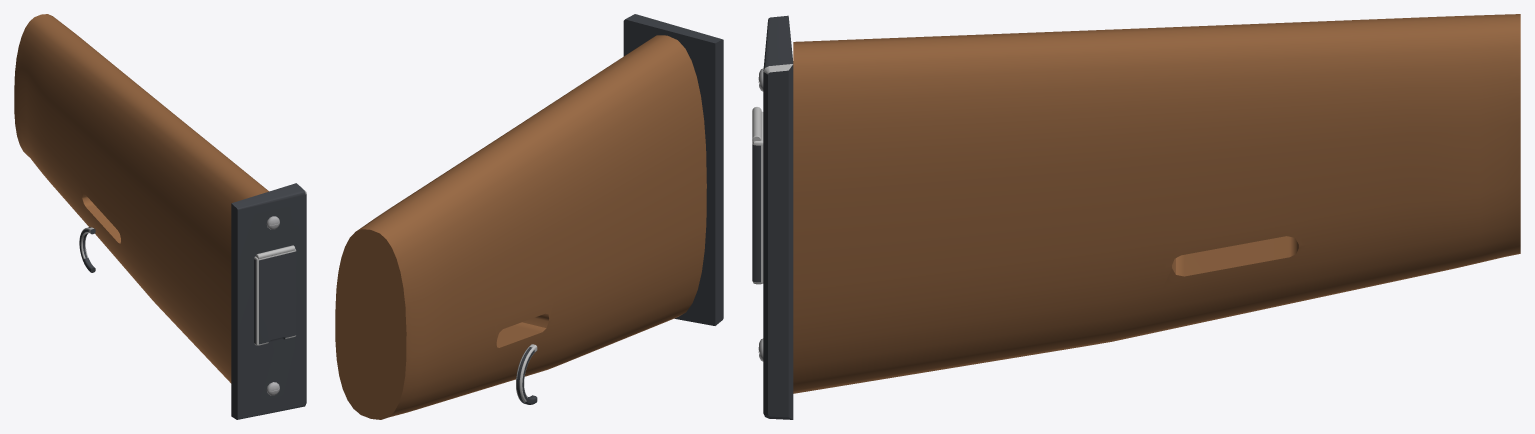
File: stock_sks.glb
3 views of the same model, side by side, from view 1: azimuth 30°, elevation 25°; view 2: azimuth 150°, elevation 25°; view 3: azimuth 270°, elevation 25° (orthographic). The views are drawn at different scales.
Visible parts, largest first — view 1: static_butt.001; view 2: static_butt.001; view 3: static_butt.001.
Part boxes in pixels (<box>): static_butt.001: <box>14,14,306,419</box>; static_butt.001: <box>335,14,723,419</box>; static_butt.001: <box>752,14,1520,419</box>.
Size of the model in its own units: 0.0429 by 0.1312 by 0.2425.
